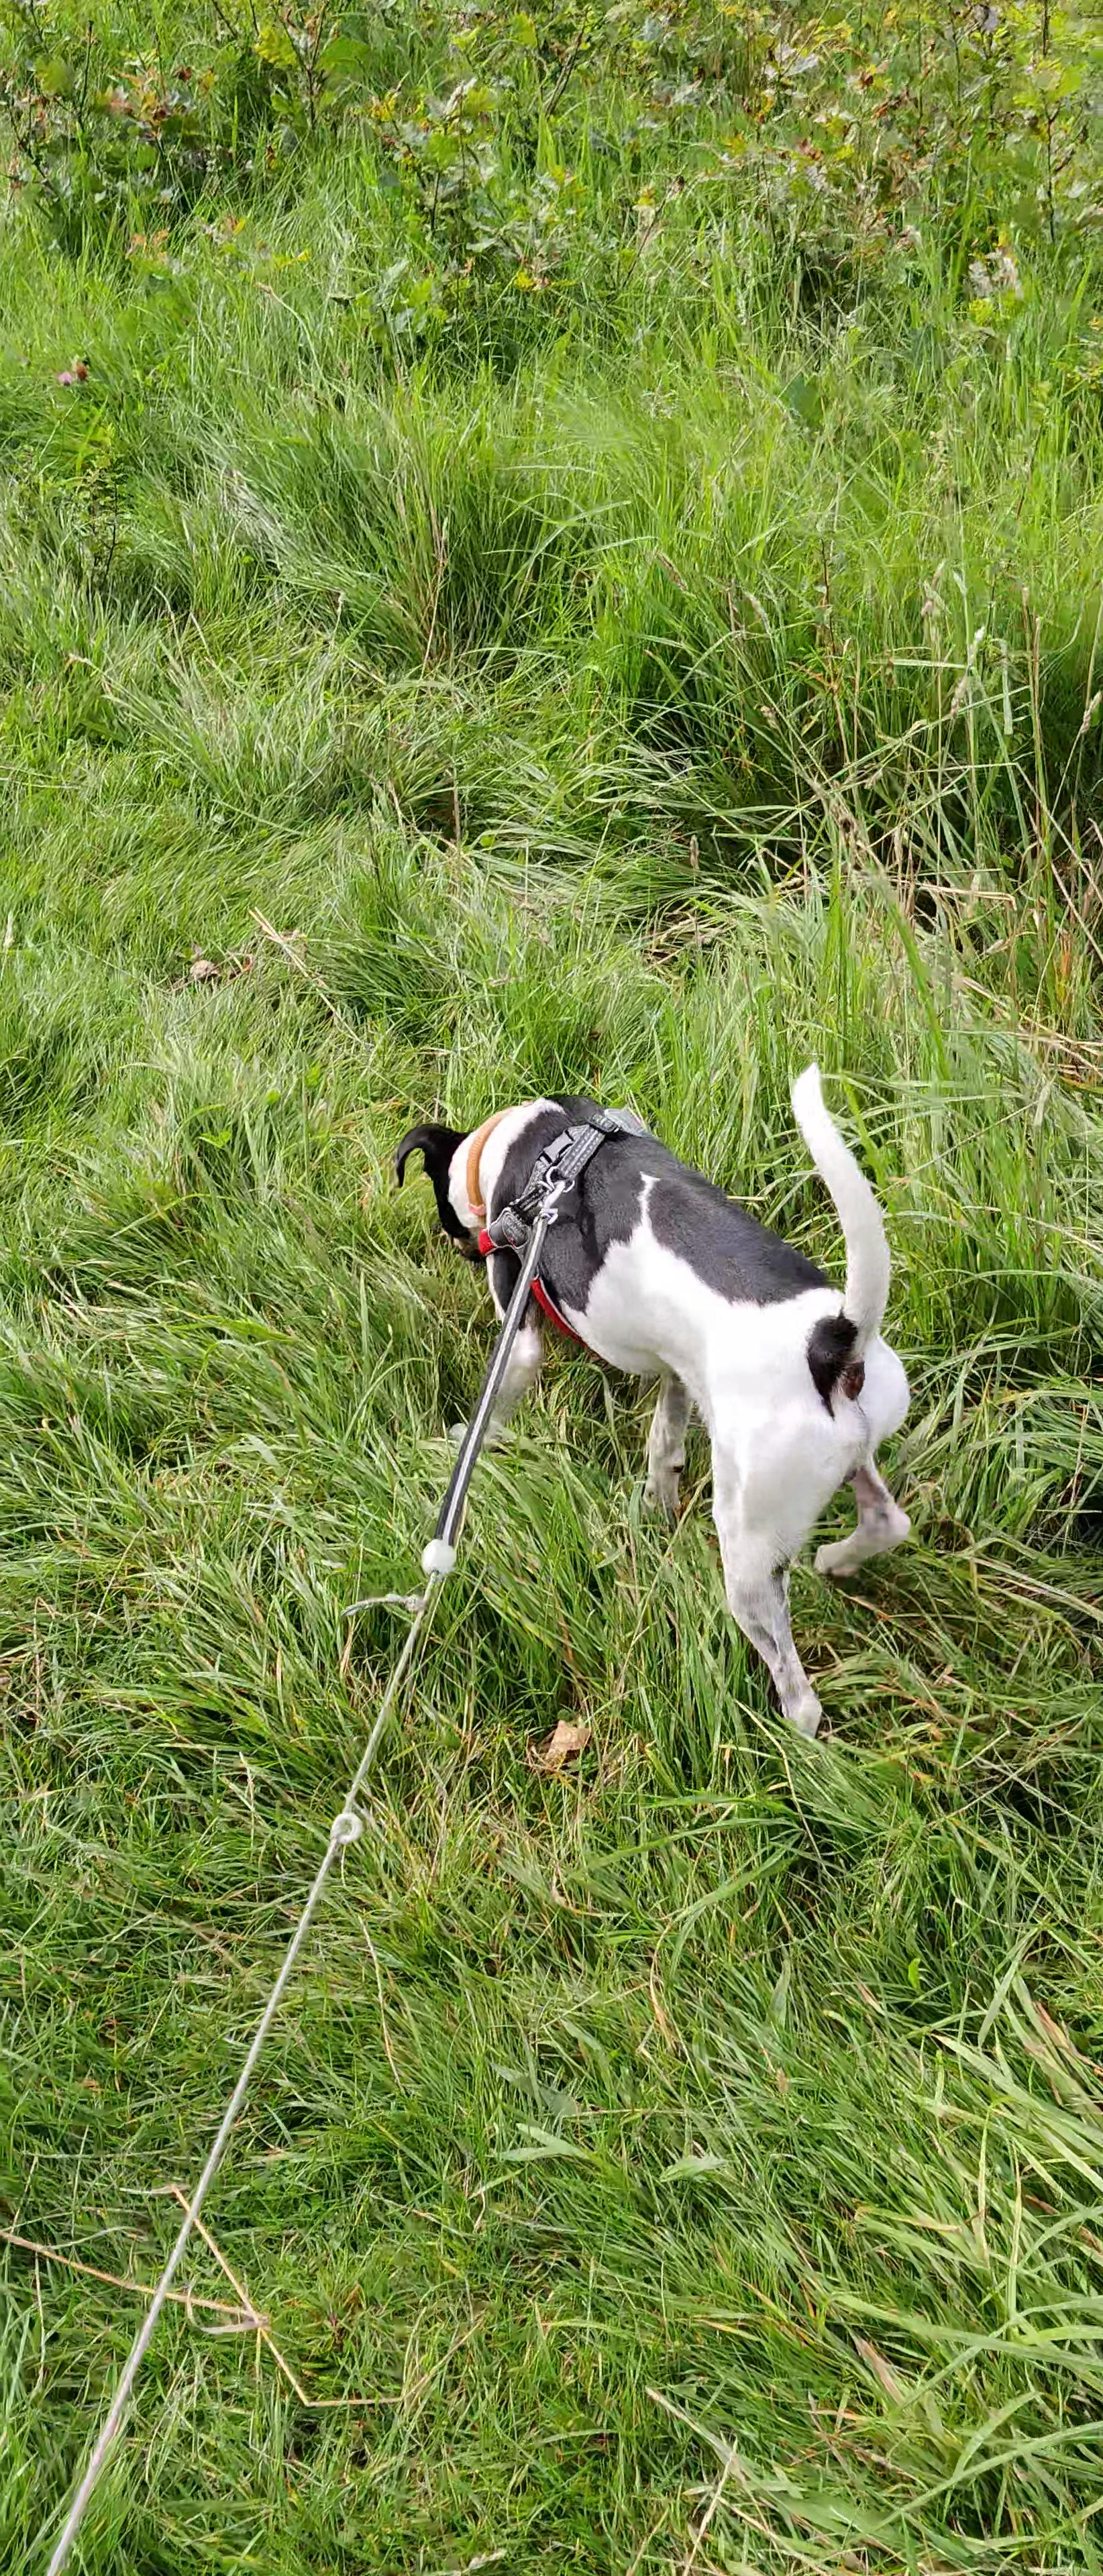Dog: (350, 999, 957, 1755)
